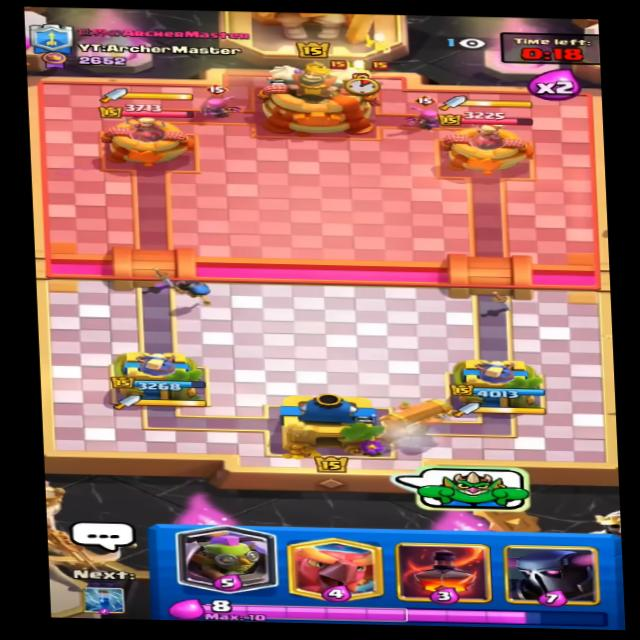evo-archers: (408, 93, 452, 135), (196, 83, 246, 119)
